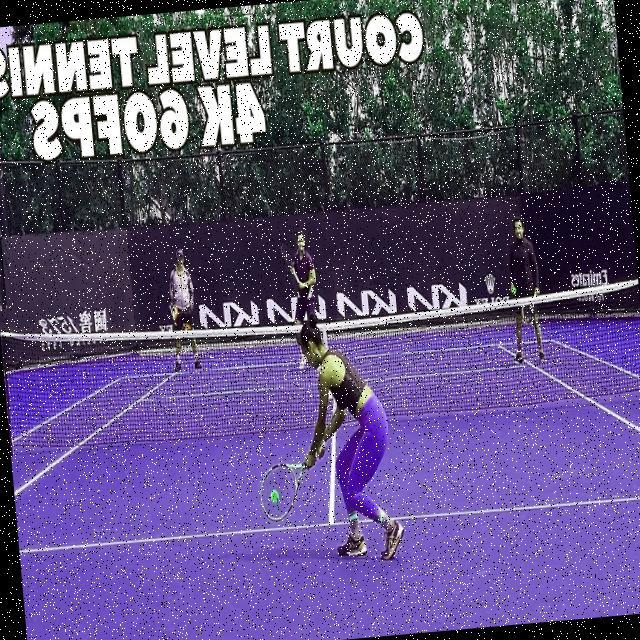court: (5, 341, 640, 640)
net: (0, 258, 640, 469)
player: (235, 294, 420, 582)
